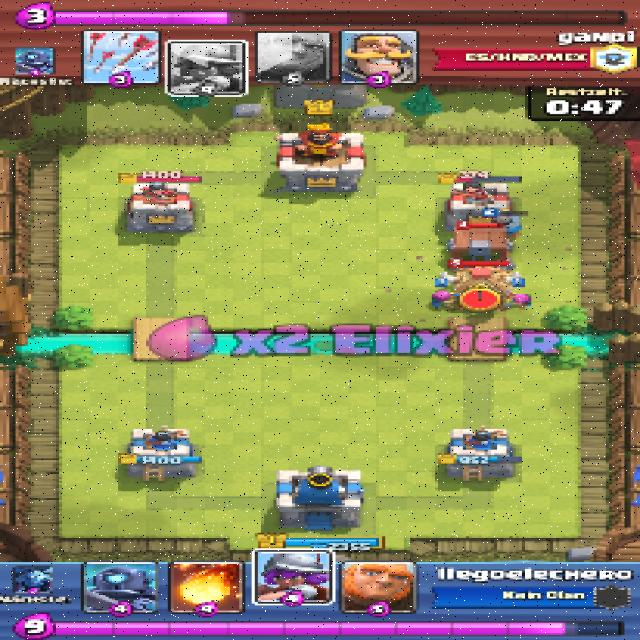Enemy-GoblinHut: (440, 270, 519, 311)
Player-Archer: (501, 291, 533, 312), (429, 290, 458, 310)
Player-GoblinCage: (448, 222, 515, 267)
Player-Knight: (492, 213, 521, 236)
